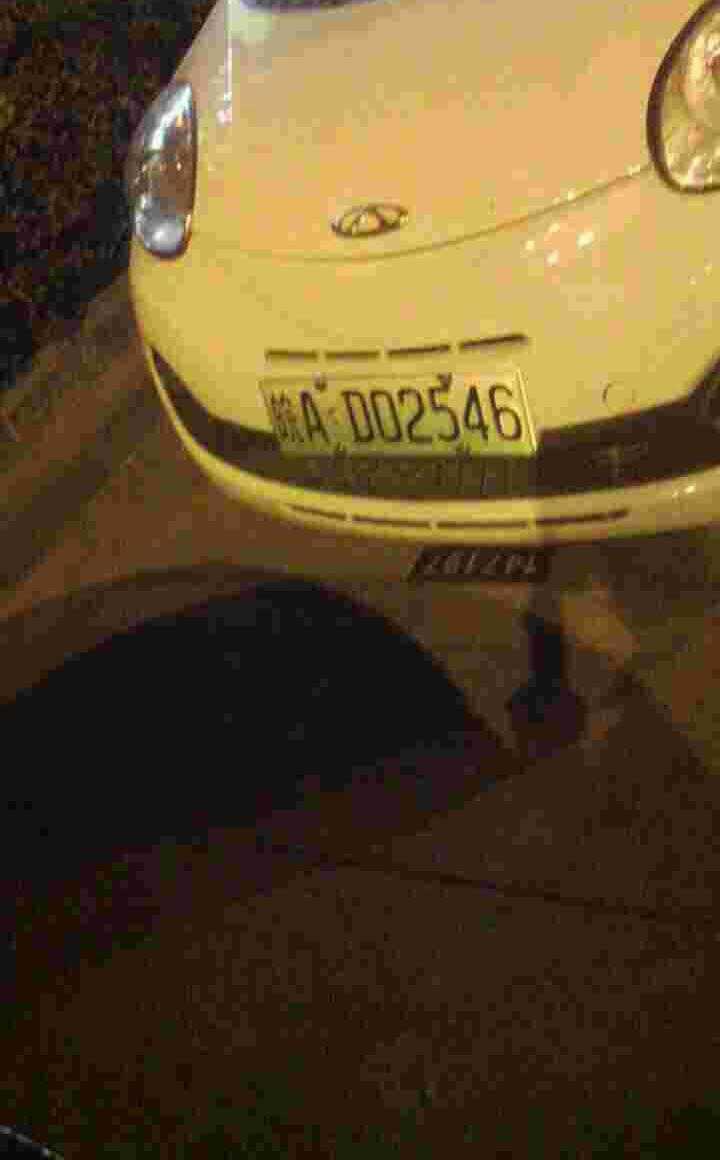car: (245, 383, 537, 455)
